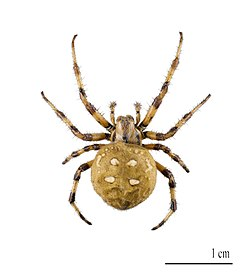spider: (32, 17, 219, 235)
